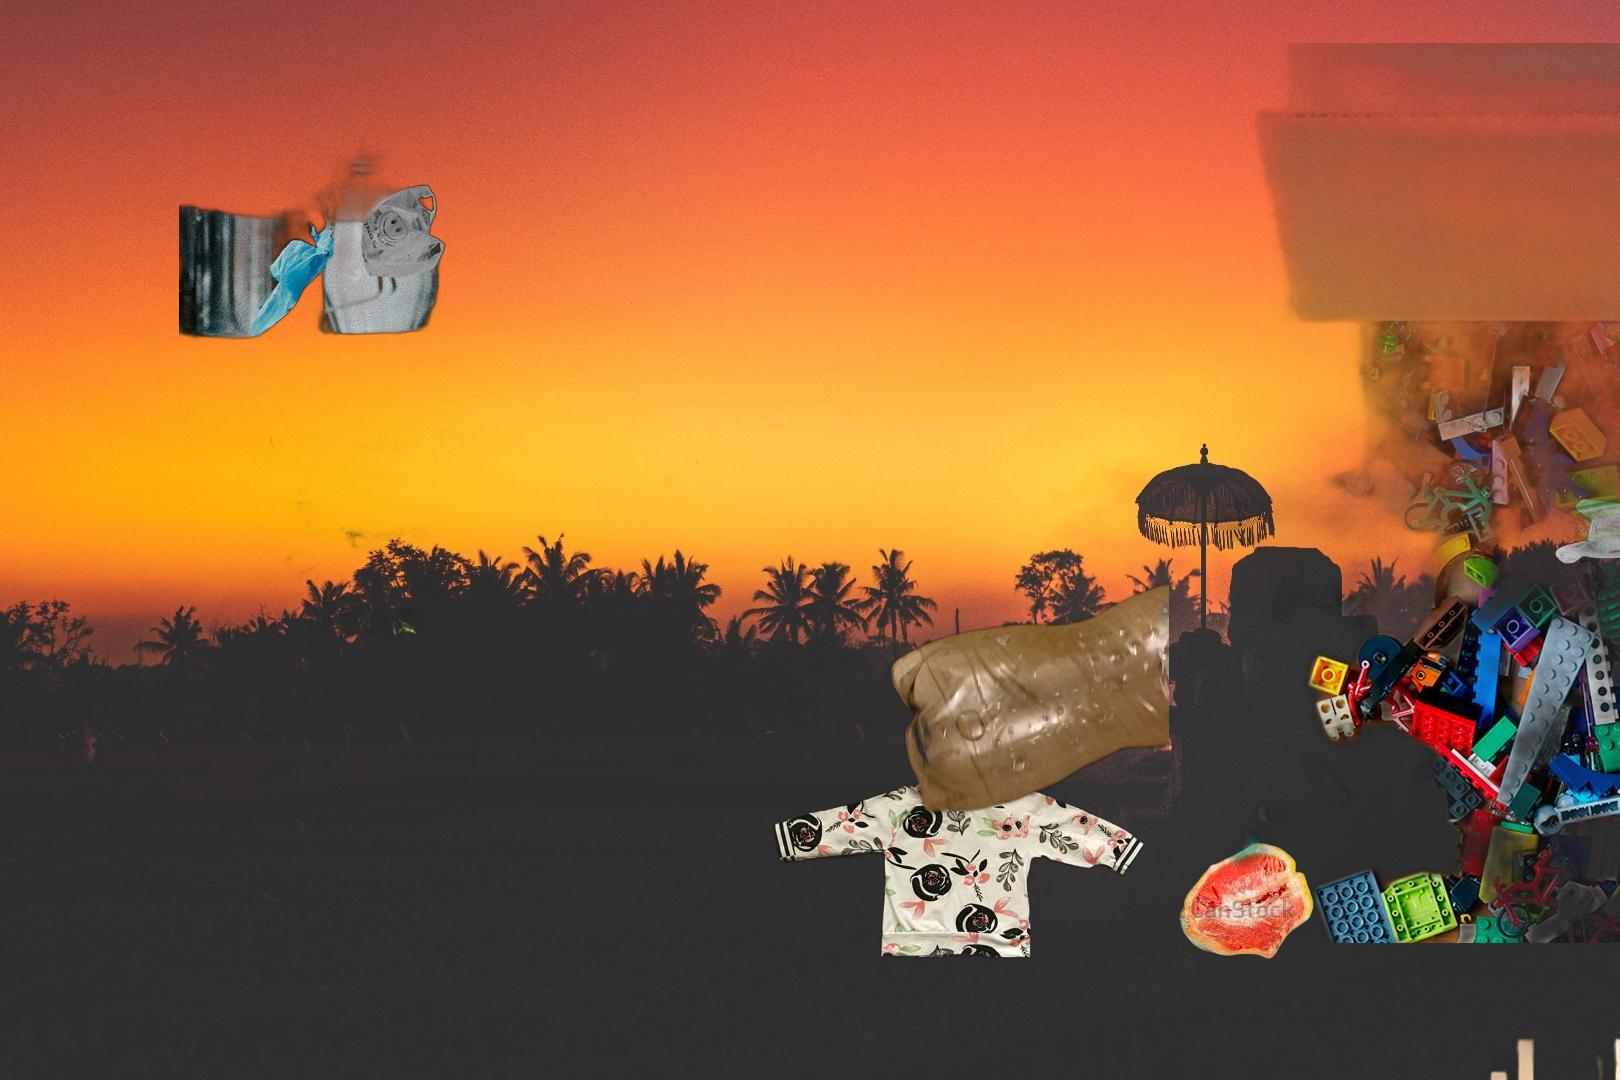biological: (260, 413, 485, 638), (1157, 840, 1317, 962)
clothes: (771, 683, 1147, 963)
plastic-bag: (180, 128, 448, 347), (1552, 495, 1620, 565)
plastic-bottles: (888, 577, 1169, 817)
trashbox-cardboard: (1094, 43, 1620, 943), (1478, 1031, 1620, 1080)
